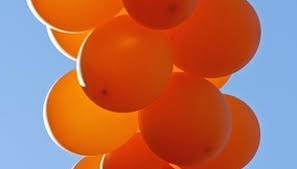Balloon: (76, 16, 173, 113), (137, 73, 231, 166), (44, 68, 141, 157), (168, 1, 261, 76), (29, 1, 125, 31), (100, 131, 171, 169)
